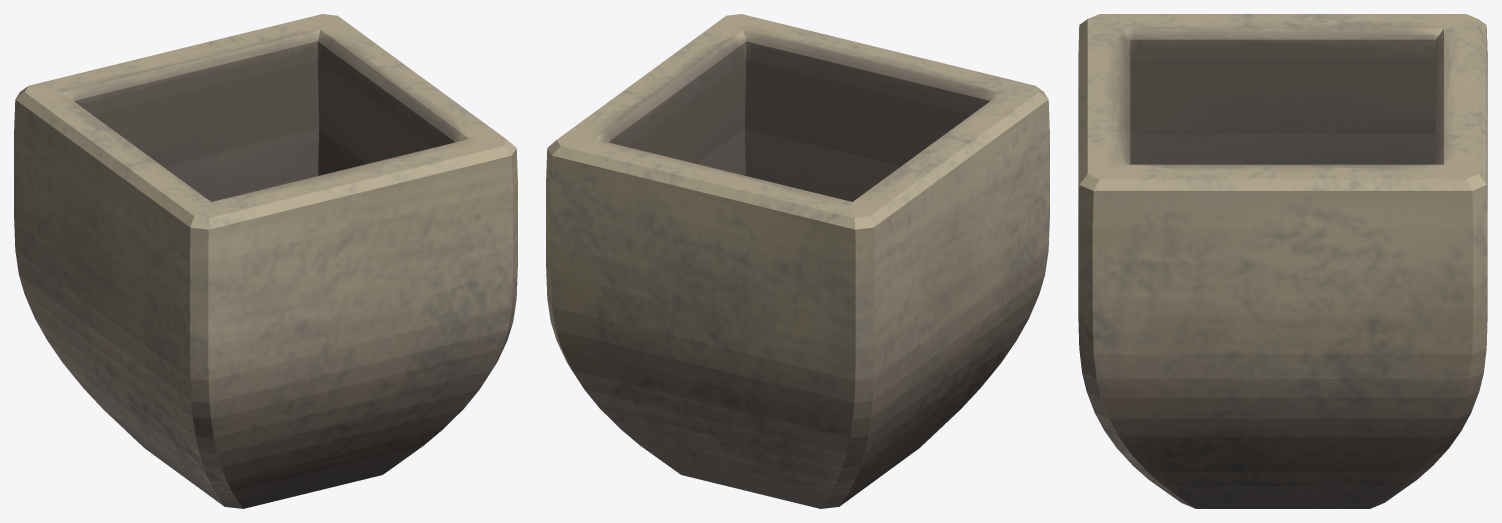
File: square pot empty.fbx
3 renders of one model, left to right at view 1: azimuth 30°, elevation 25°; view 2: azimuth 150°, elevation 25°; view 3: azimuth 270°, elevation 25°, orthographic. The views are drawn at different scales.
Visible parts, largest first — view 1: Cube; view 2: Cube; view 3: Cube.
Part boxes in pixels (left/top/right/bottom): Cube: left=14, top=14, right=517, bottom=508; Cube: left=546, top=14, right=1049, bottom=508; Cube: left=1078, top=14, right=1487, bottom=508.
Size of the model in its own units: 402 by 400 by 402.
Materials: 1 (1 with a texture image).
